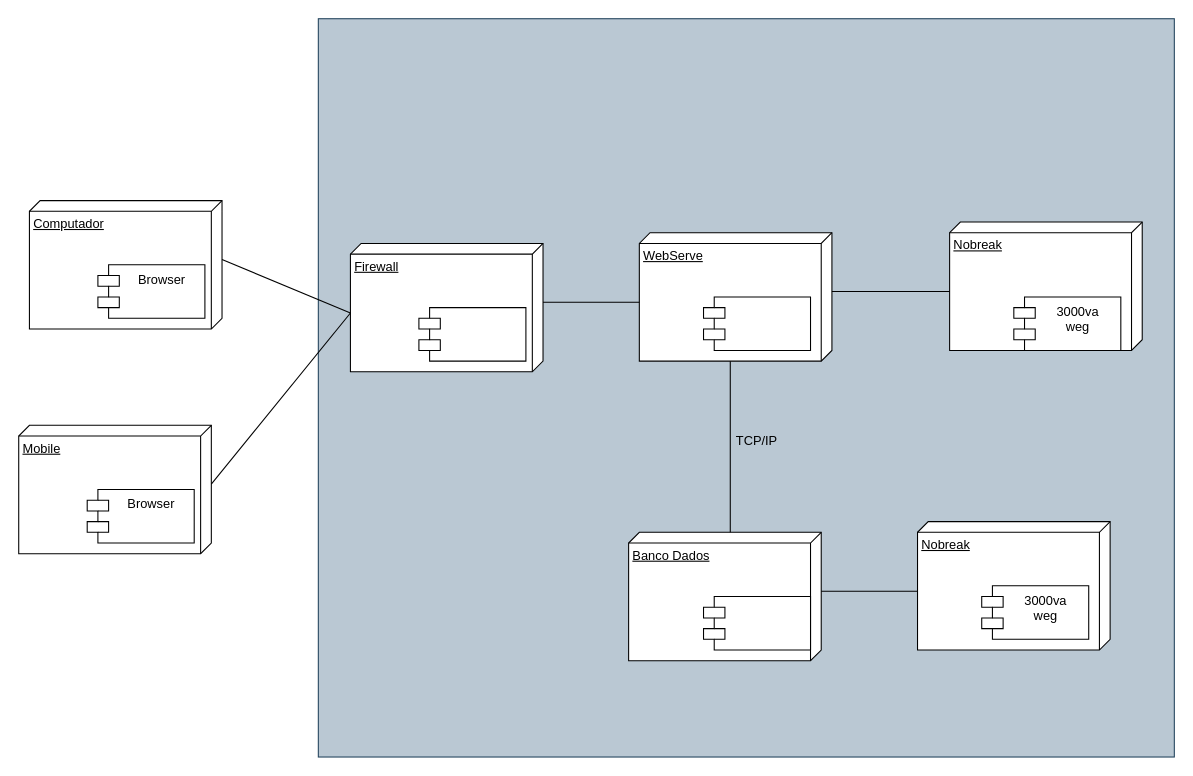
Image size: 1193x776. Some labels were removed from this diagram. Here are the shapes that lost their labels. From the top down, the centre of each, then its label:
At pixel 472 334: "AkerClient".
At pixel 756 323: "python".
At pixel 756 622: "MySql".
